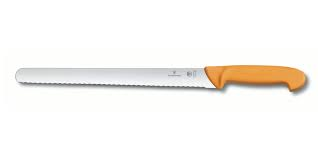knife: (14, 64, 308, 92)
